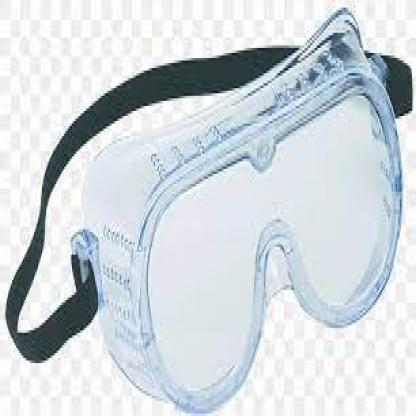goggles: (77, 37, 405, 409)
